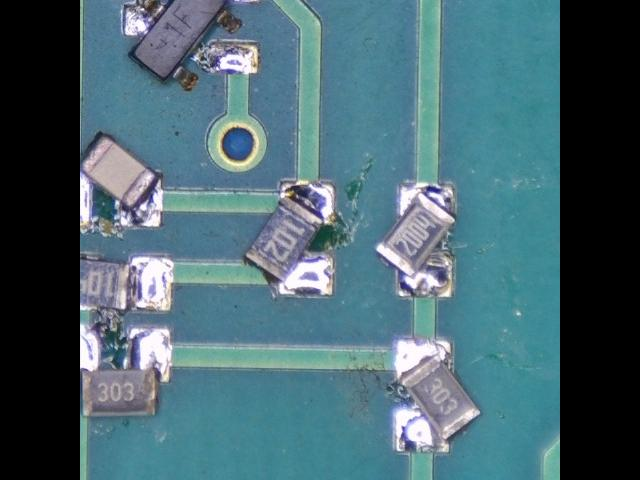Incorrect_installation: (122, 1, 262, 91), (244, 181, 338, 296), (395, 338, 484, 453), (376, 183, 458, 298), (81, 132, 164, 233), (81, 325, 172, 417), (81, 254, 174, 311)
